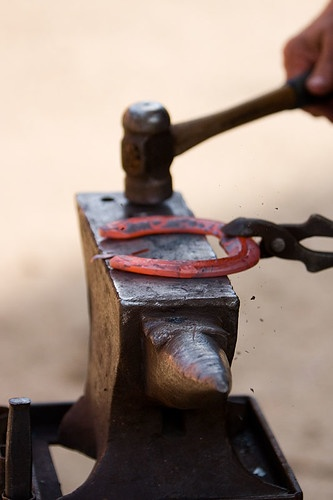hammer: (119, 99, 328, 206)
